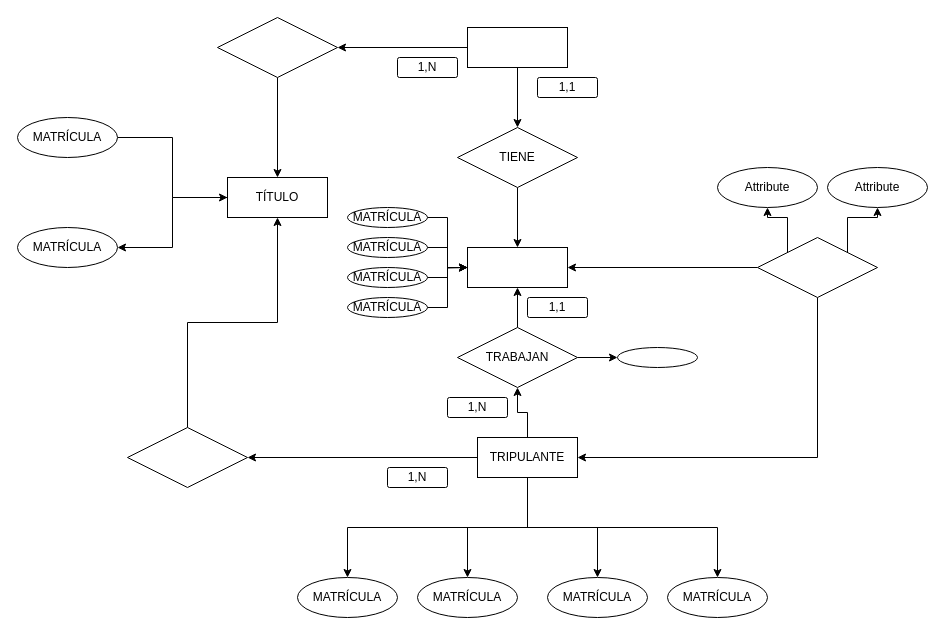
The diagram is 945 pixels wide and 635 high, and some of its shapes have lost their labels. The shapes that lost their labels are listed below. From the top down, each one's box as (x1, y1, x2, y2) in pixels, then its label:
(216, 16, 338, 78): POSEE_1
(466, 26, 568, 68): PROPIETARIO
(466, 246, 568, 288): EMBARCACIÓN
(756, 236, 878, 298): HACEN_SALIDAS
(616, 346, 698, 368): FUNCIÓN
(126, 426, 248, 488): POSEE
